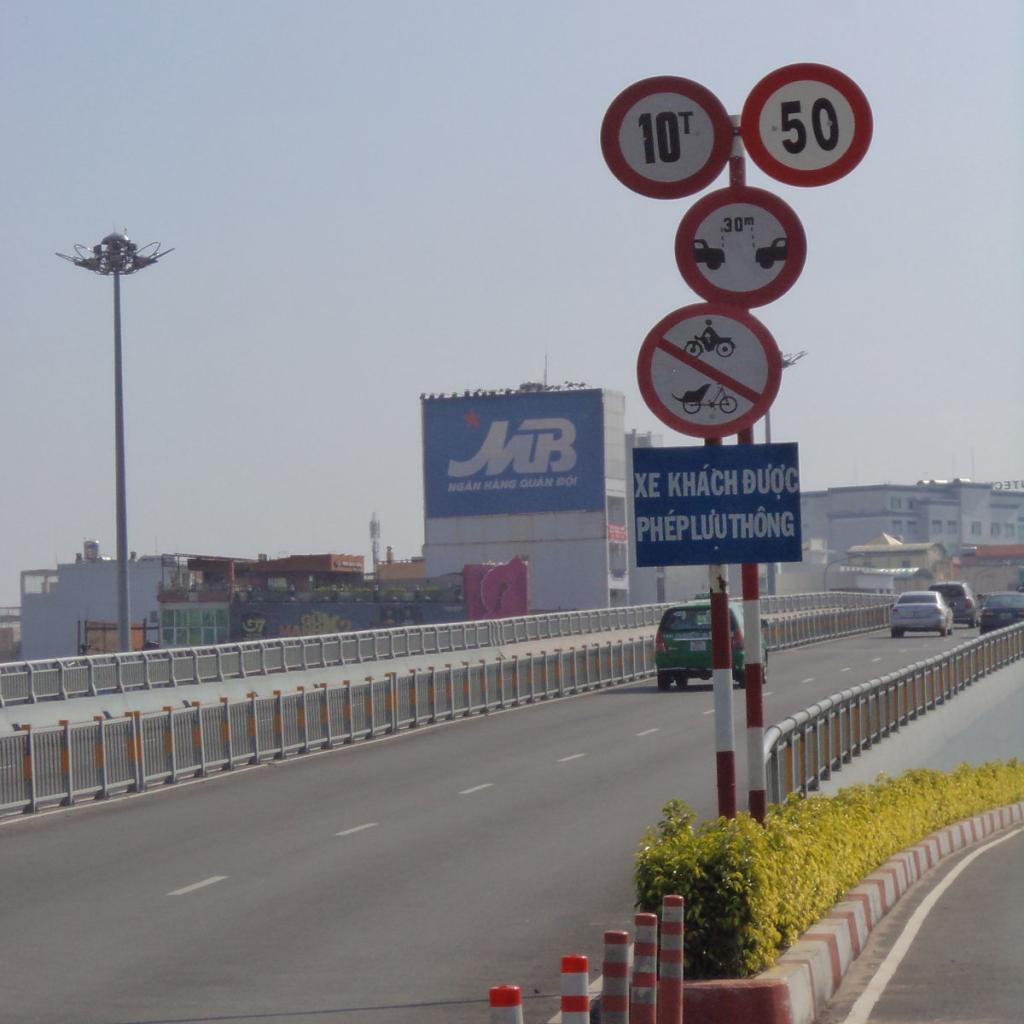text: (434, 415, 580, 479), (779, 94, 845, 157), (637, 109, 698, 167), (666, 461, 739, 499), (739, 461, 800, 503), (727, 504, 796, 540), (635, 508, 690, 544), (688, 508, 730, 553), (633, 470, 662, 499), (276, 625, 324, 638), (722, 216, 756, 234), (446, 478, 484, 494), (481, 476, 519, 492), (518, 474, 557, 489), (553, 472, 582, 490), (323, 612, 343, 636), (242, 616, 267, 635), (300, 614, 312, 626)
